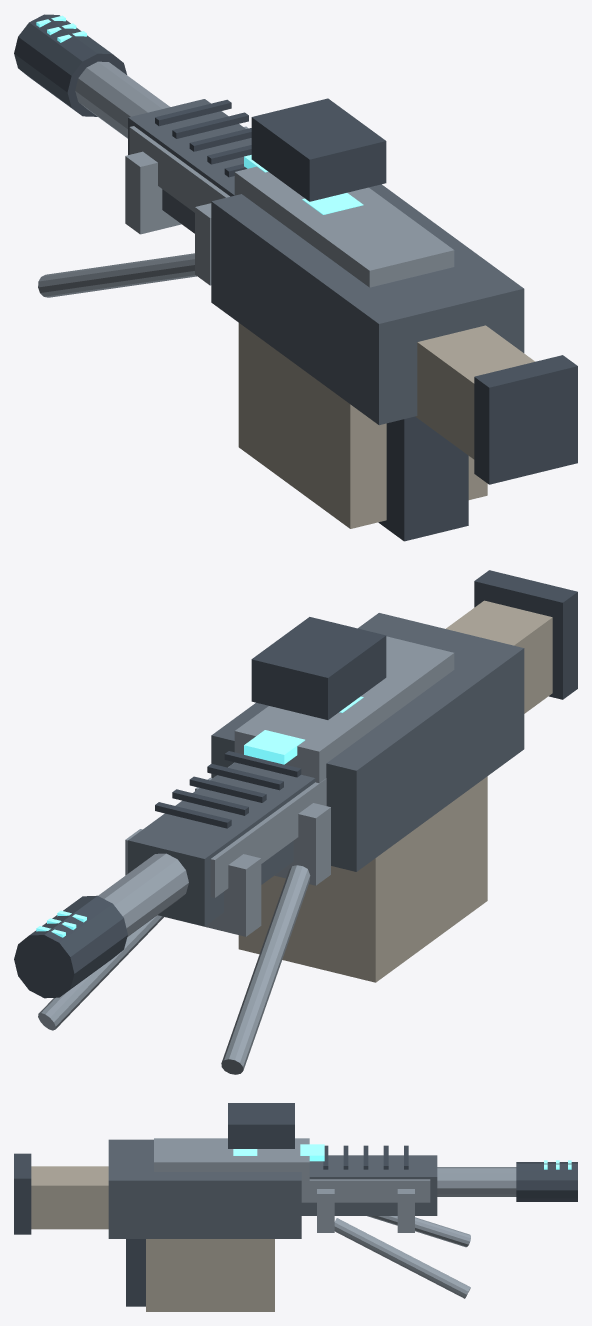
File: lmg.glb
3 renders of one model, top to bottom at view 1: azimuth 30°, elevation 25°; view 2: azimuth 150°, elevation 25°; view 3: azimuth 270°, elevation 25°, orthographic. The views are drawn at different scales.
Visible parts, largest first — view 1: body_material_0, body_material_2, body_material_3, body_material_1, body_material_4; view 2: body_material_0, body_material_1, body_material_3, body_material_2, body_material_4; view 3: body_material_0, body_material_3, body_material_1, body_material_2, body_material_4.
Part boxes in pixels (bbox=[...]): body_material_0: bbox=[128, 99, 524, 425]; body_material_2: bbox=[14, 14, 577, 541]; body_material_3: bbox=[238, 323, 534, 528]; body_material_1: bbox=[38, 61, 454, 297]; body_material_4: bbox=[36, 15, 363, 214]; body_material_0: bbox=[128, 613, 524, 926]; body_material_1: bbox=[38, 636, 454, 1074]; body_material_3: bbox=[238, 600, 552, 982]; body_material_2: bbox=[14, 570, 577, 998]; body_material_4: bbox=[36, 696, 363, 937]; body_material_0: bbox=[108, 1139, 437, 1238]; body_material_3: bbox=[31, 1166, 274, 1311]; body_material_1: bbox=[154, 1138, 516, 1298]; body_material_2: bbox=[14, 1103, 577, 1306]; body_material_4: bbox=[233, 1144, 571, 1169].
Bounding box in the file's own units: 0.5086 × 0.755 × 2.1.
